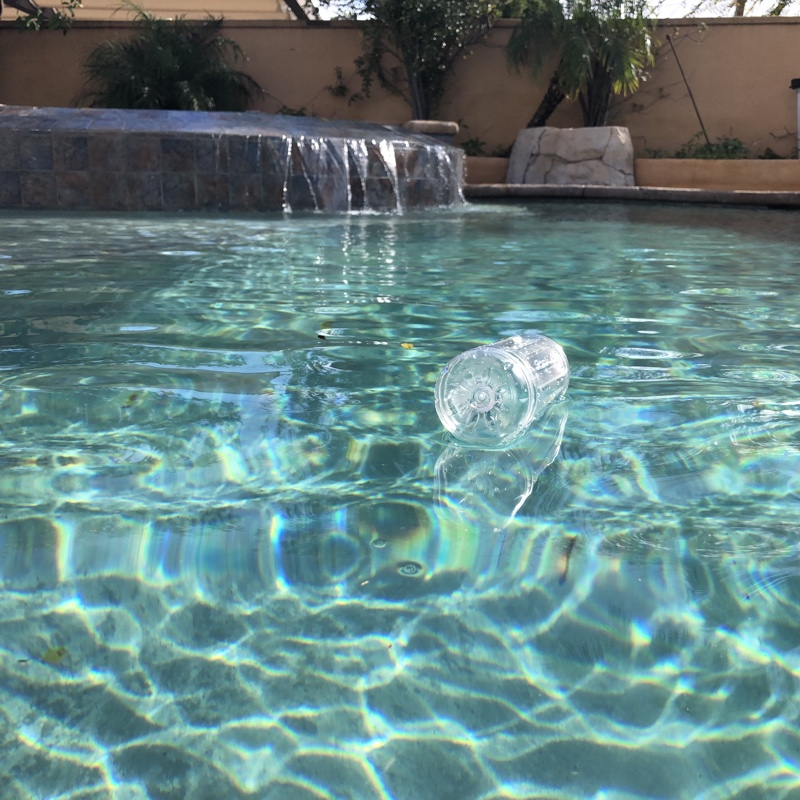Plastic Bottle: (432, 327, 572, 448)
